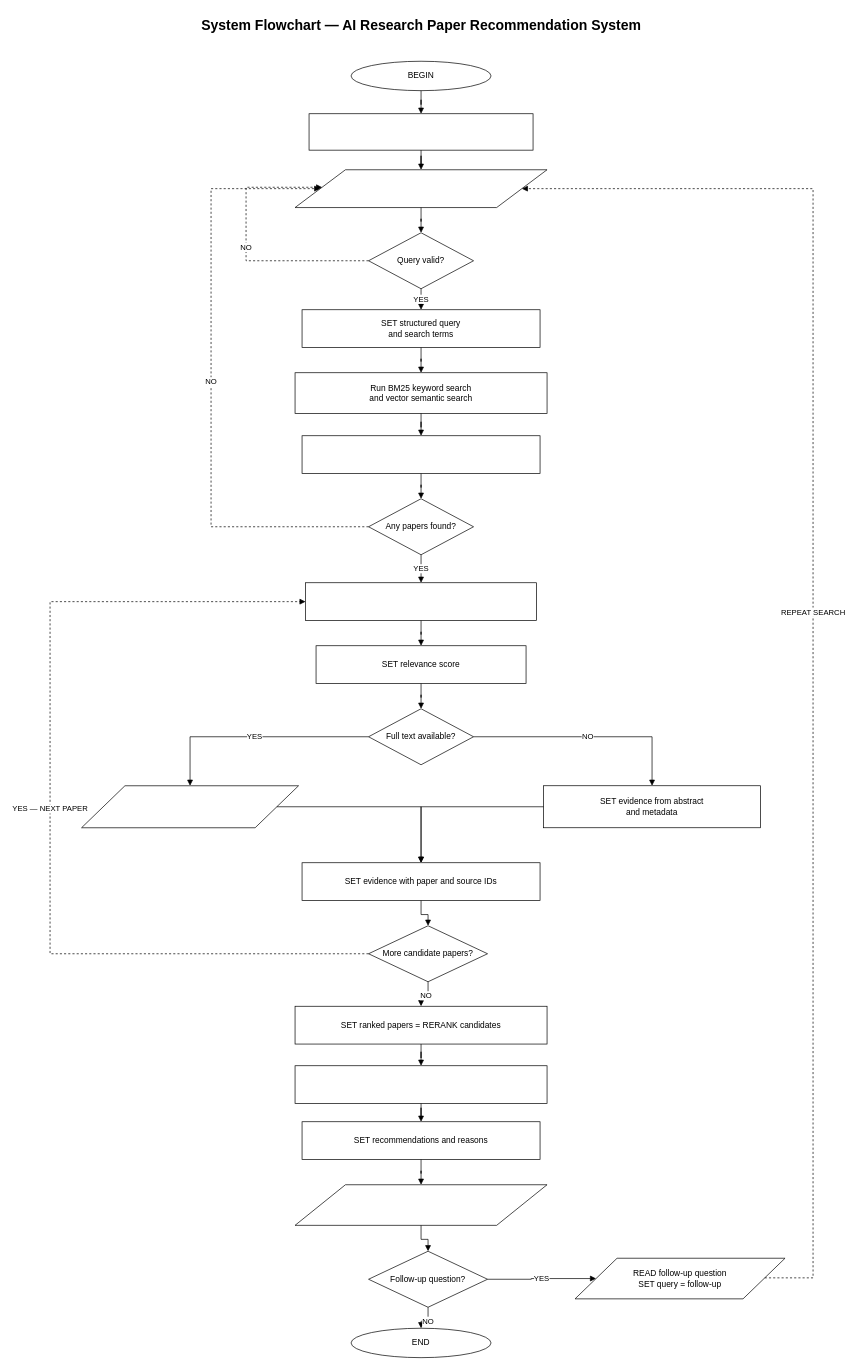
Image size: 857x1370. Some labels were removed from this diagram. The shapes that lost their labels are listed below. From the top down, each one's centre as x and y in pixels, then its label:
(420,131): SET TopK = 10 Initialize filters
(420,188): READ research query and optional filters
(420,454): SET merged, deduplicated candidate papers
(421,601): FOR EACH candidate paper
(190,806): READ relevant sections SET evidence from full text
(420,1084): Generate grounded summaries and paper comparison
(420,1204): PRINT Top-K papers, explanations and citations
